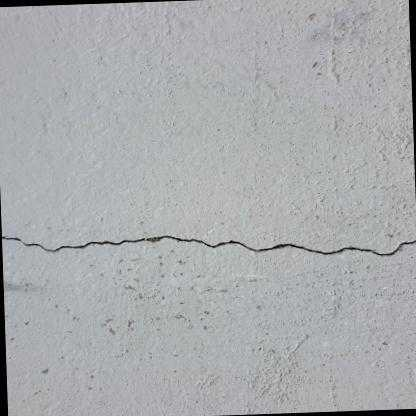crack: (1, 235, 416, 255)
